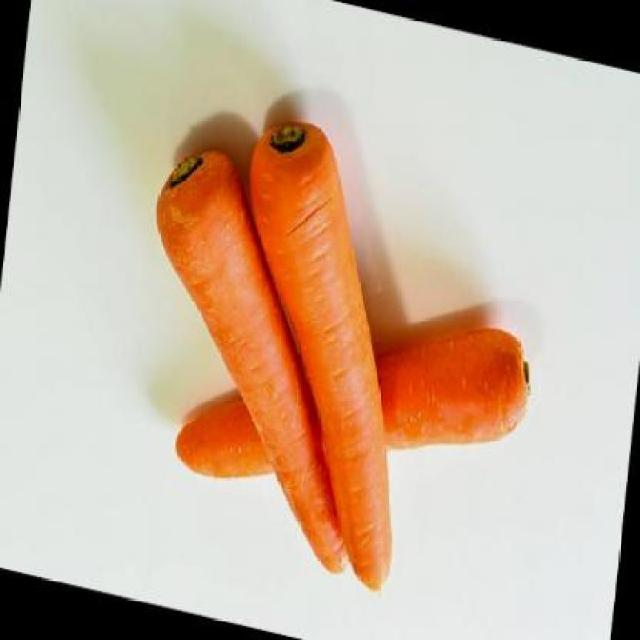carrot: (122, 135, 387, 573), (209, 110, 433, 595), (172, 254, 534, 548)
